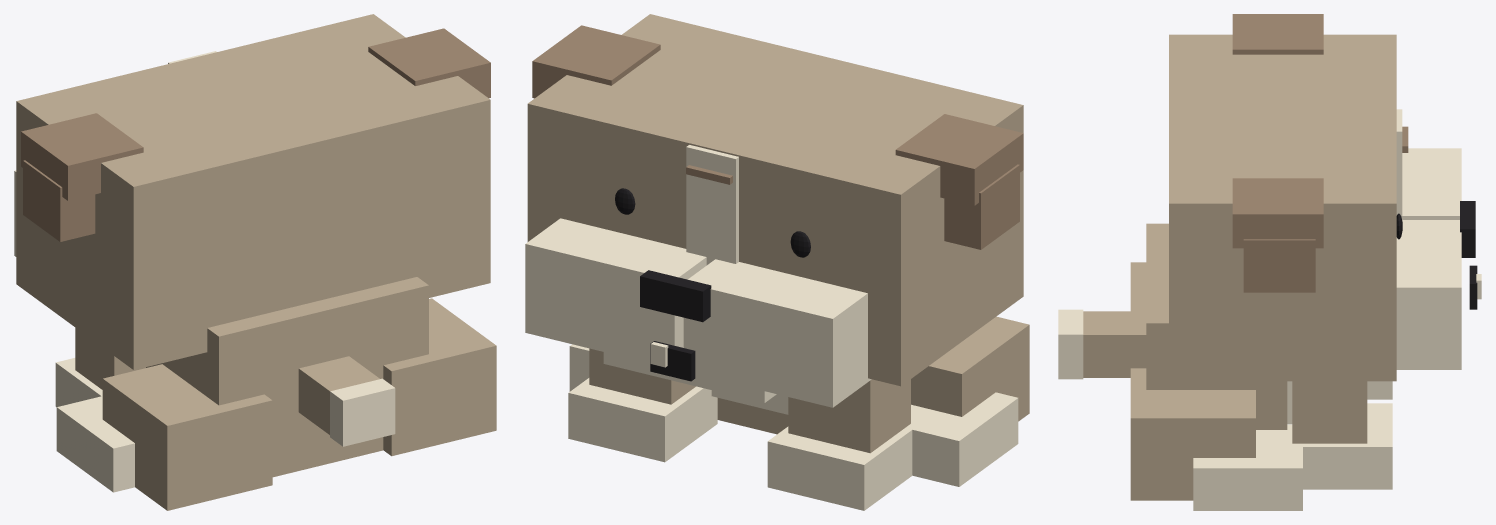
The model's file is Bulldog_Block.obj.
3 renders of one model, left to right at view 1: azimuth 30°, elevation 25°; view 2: azimuth 150°, elevation 25°; view 3: azimuth 270°, elevation 25°, orthographic. The views are drawn at different scales.
Parts seen in each view (by area): view 1: BigHead, ShortTorso, LegBL_Leg, LegBR_Leg, EarL_Fold, LegBL_Paw, EarR_Fold, TailTip, EarL_Drop, TailStub, LegFL_Leg, LegFL_Paw; view 2: BigHead, PuffedCheekL, PuffedCheekR, LegFL_Paw, LegFR_Paw, LegBL_Leg, LegBL_Paw, EarL_Fold, LegFL_Leg, WhiteBlaze, EarR_Fold, EarL_Drop (+7 smaller); view 3: BigHead, LegBR_Leg, PuffedCheekR, LegBR_Paw, ShortTorso, EarR_Fold, LegFR_Paw, LegFR_Leg, PuffedCheekL, TailStub, EarR_Drop, EarL_Fold (+5 smaller).
Boxes of the visible parts, bbox=[...] form: BigHead: bbox=[16, 14, 490, 369]; ShortTorso: bbox=[146, 277, 428, 477]; LegBL_Leg: bbox=[102, 364, 272, 510]; LegBR_Leg: bbox=[383, 298, 496, 456]; EarL_Fold: bbox=[21, 113, 143, 200]; LegBL_Paw: bbox=[56, 396, 134, 492]; EarR_Fold: bbox=[368, 28, 490, 98]; TailTip: bbox=[330, 378, 395, 446]; EarL_Drop: bbox=[23, 160, 95, 241]; TailStub: bbox=[298, 356, 379, 434]; LegFL_Leg: bbox=[75, 328, 145, 389]; LegFL_Paw: bbox=[55, 358, 102, 407]; BigHead: bbox=[527, 14, 1023, 386]; PuffedCheekL: bbox=[683, 259, 871, 407]; PuffedCheekR: bbox=[525, 218, 706, 362]; LegFL_Paw: bbox=[767, 425, 915, 510]; LegFR_Paw: bbox=[568, 378, 717, 462]; LegBL_Leg: bbox=[911, 316, 1029, 421]; LegBL_Paw: bbox=[909, 392, 1018, 486]; EarL_Fold: bbox=[895, 114, 1023, 205]; LegFL_Leg: bbox=[788, 379, 910, 453]; WhiteBlaze: bbox=[686, 145, 738, 265]; EarR_Fold: bbox=[532, 25, 660, 98]; EarL_Drop: bbox=[944, 164, 1019, 249]; BigHead: bbox=[1169, 34, 1396, 381]; LegBR_Leg: bbox=[1130, 368, 1255, 500]; PuffedCheekR: bbox=[1396, 220, 1461, 369]; LegBR_Paw: bbox=[1193, 424, 1302, 510]; ShortTorso: bbox=[1146, 223, 1287, 429]; EarR_Fold: bbox=[1232, 178, 1323, 248]; LegFR_Paw: bbox=[1295, 403, 1392, 489]; LegFR_Leg: bbox=[1292, 381, 1367, 443]; PuffedCheekL: bbox=[1402, 148, 1461, 219]; TailStub: bbox=[1083, 311, 1146, 377]; EarR_Drop: bbox=[1243, 239, 1315, 292]; EarL_Fold: bbox=[1232, 14, 1323, 54].
Size of the model in its own units: 3.05 by 2.17 by 2.7.
